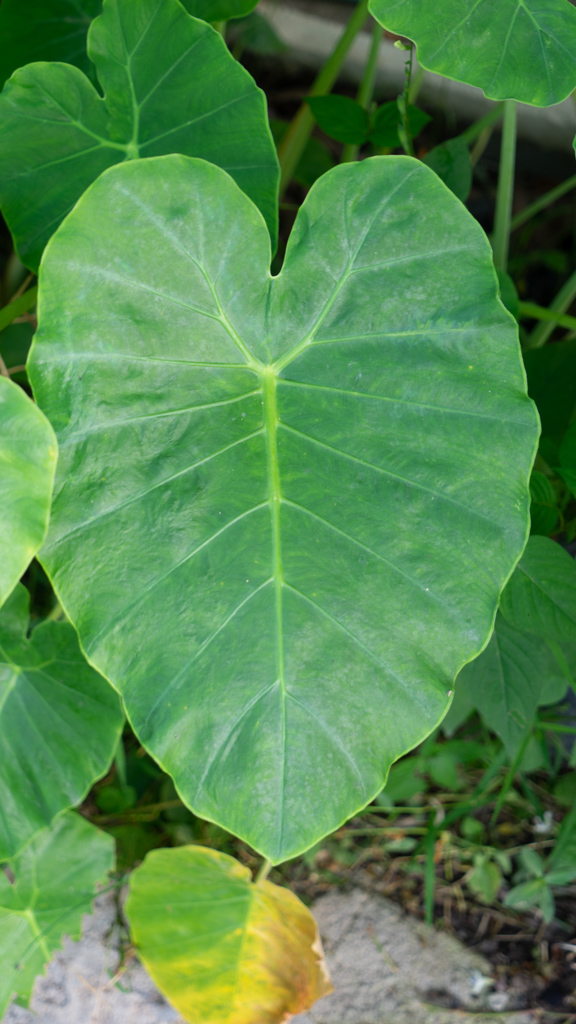Pepper yellow leaf: (200, 841, 330, 947)
